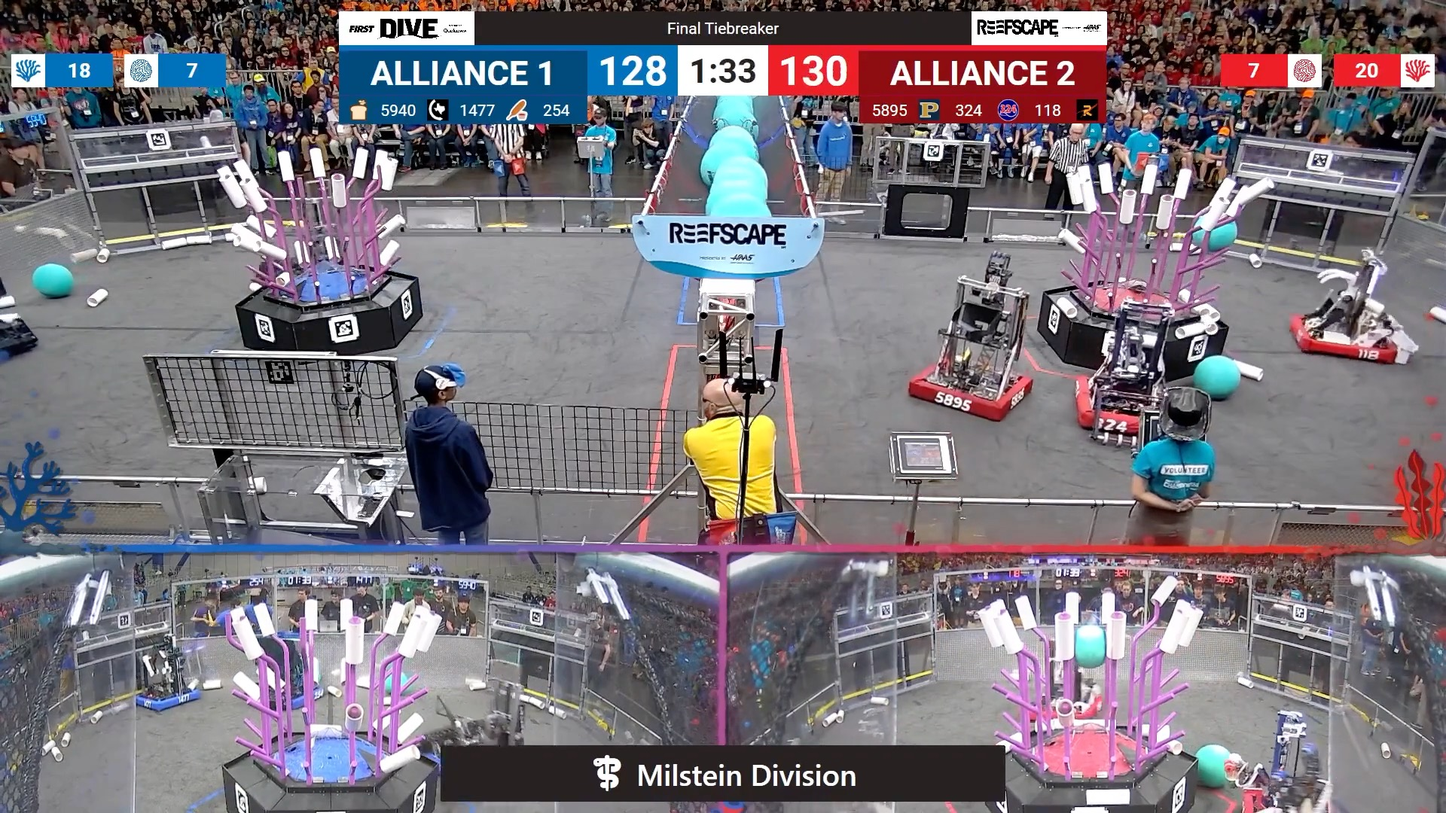bumpers: (903, 355, 1038, 425), (1278, 312, 1414, 373), (1064, 378, 1187, 443), (1223, 786, 1351, 813), (131, 685, 208, 718), (250, 683, 331, 714)
